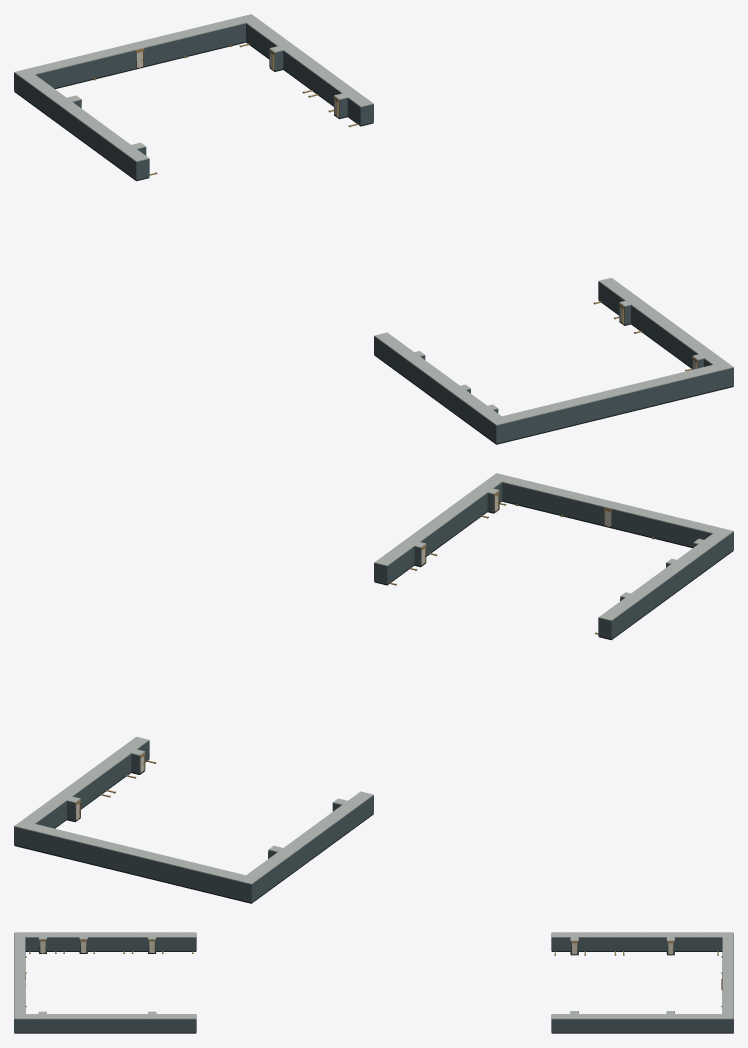
Rendered from D04_STARBOARD_AFT_COURT_ROUTES_r001.glb.
3 views of the same model, one above another, from view 1: azimuth 30°, elevation 25°; view 2: azimuth 150°, elevation 25°; view 3: azimuth 270°, elevation 25° (orthographic). The views are drawn at different scales.
Parts seen in each view (by area): view 1: SAR_Roof0, SAR_Roof1, SAR_Wall1_5_0, SAR_Wall0_3, SAR_Wall1_2, SAR_Wall0_14_1, SAR_Wall0_14_0, SAR_Wall1_14, SAR_Wall0_19, SAR_Floor1, SAR_Floor0; view 2: SAR_Roof0, SAR_Roof1, SAR_Wall0_0_0, SAR_Wall1_2, SAR_Wall0_3, SAR_Wall1_19_1, SAR_Wall1_19_0, SAR_Wall1_14, SAR_Wall0_19, SAR_Floor0, SAR_Floor1; view 3: SAR_Roof0, SAR_Roof1, SAR_Wall0_25, SAR_Wall1_8, SAR_Wall0_9, SAR_Wall1_28, SAR_Wall0_13, SAR_Floor0, SAR_Floor1, SAR_Wall1_0, SAR_Wall1_24, SAR_Wall0_5 (+1 smaller).
Part boxes in pixels (box(x1,y1,x2,y2)): SAR_Roof0: box(14, 14, 373, 161); SAR_Roof1: box(374, 277, 733, 425); SAR_Wall1_5_0: box(509, 371, 720, 440); SAR_Wall0_3: box(21, 78, 136, 179); SAR_Wall1_2: box(374, 336, 488, 437); SAR_Wall0_14_1: box(143, 23, 245, 66); SAR_Wall0_14_0: box(35, 50, 135, 88); SAR_Wall1_14: box(631, 305, 697, 367); SAR_Wall0_19: box(283, 51, 341, 105); SAR_Floor1: box(374, 300, 733, 444); SAR_Floor0: box(14, 41, 373, 181); SAR_Roof0: box(14, 736, 373, 884); SAR_Roof1: box(374, 473, 733, 620); SAR_Wall0_0_0: box(27, 830, 238, 899); SAR_Wall1_2: box(611, 537, 726, 638); SAR_Wall0_3: box(259, 795, 373, 896); SAR_Wall1_19_1: box(502, 482, 604, 525); SAR_Wall1_19_0: box(612, 509, 712, 546); SAR_Wall1_14: box(421, 493, 487, 555); SAR_Wall0_19: box(73, 754, 131, 808); SAR_Floor0: box(14, 759, 373, 903); SAR_Floor1: box(374, 500, 733, 640); SAR_Roof0: box(551, 932, 733, 1019); SAR_Roof1: box(14, 932, 196, 1019); SAR_Wall0_25: box(551, 1019, 722, 1032); SAR_Wall1_8: box(25, 1019, 196, 1032); SAR_Wall0_9: box(579, 937, 666, 950); SAR_Wall1_28: box(88, 937, 147, 950); SAR_Wall0_13: box(675, 937, 722, 950); SAR_Floor0: box(551, 946, 733, 1033); SAR_Floor1: box(14, 946, 196, 1033); SAR_Wall1_0: box(156, 937, 196, 950); SAR_Wall1_24: box(47, 937, 79, 950); SAR_Wall0_5: box(551, 937, 570, 950).
Bounding box in the file's own units: 44.32 × 3.56 × 156.
Materials: 7 (7 with a texture image).
